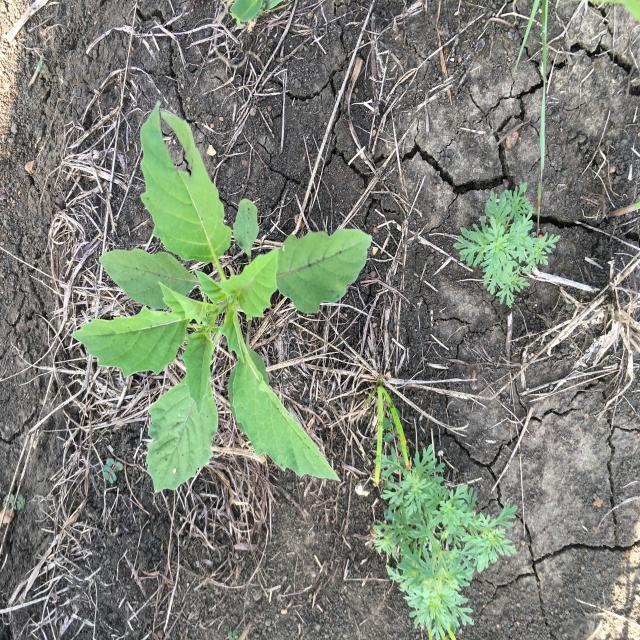CutleafGroundcherry: (68, 97, 375, 497)
Ragweed: (368, 439, 520, 636), (452, 181, 563, 308)
